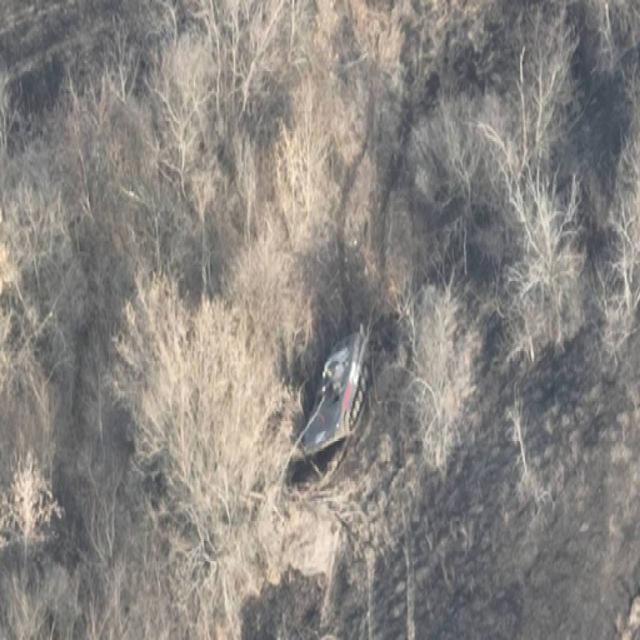APC-IFV: (298, 313, 377, 471)
